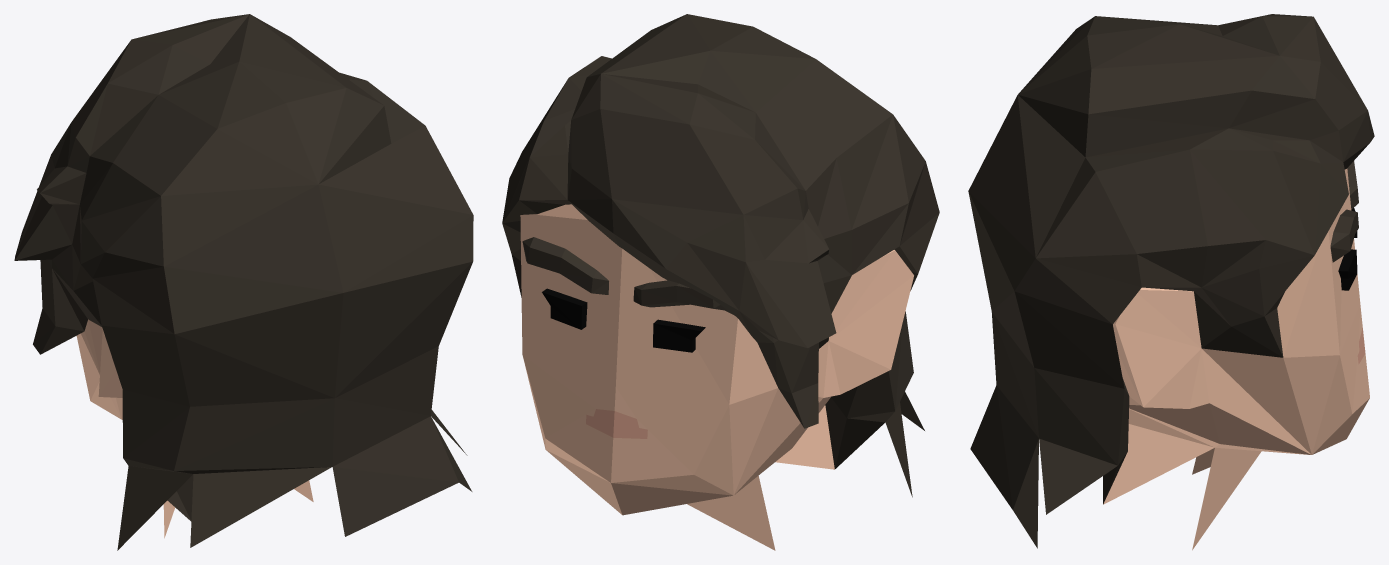
Rendered from SchoolGirl_01_Head_0_02_A.obj.
3 views of the same model, side by side, from view 1: azimuth 30°, elevation 25°; view 2: azimuth 150°, elevation 25°; view 3: azimuth 270°, elevation 25° (orthographic). The views are drawn at different scales.
Parts seen in each view (by area): view 1: SchoolGirl_01_Head_0_02_A; view 2: SchoolGirl_01_Head_0_02_A; view 3: SchoolGirl_01_Head_0_02_A.
Boxes of the visible parts, x1,y1,x2,y2 form: SchoolGirl_01_Head_0_02_A: (14, 14, 473, 550); SchoolGirl_01_Head_0_02_A: (502, 14, 939, 550); SchoolGirl_01_Head_0_02_A: (968, 14, 1374, 550).
Bounding box in the file's own units: 0.2905 × 0.364 × 0.2759.
Materials: 1 (1 with a texture image).
